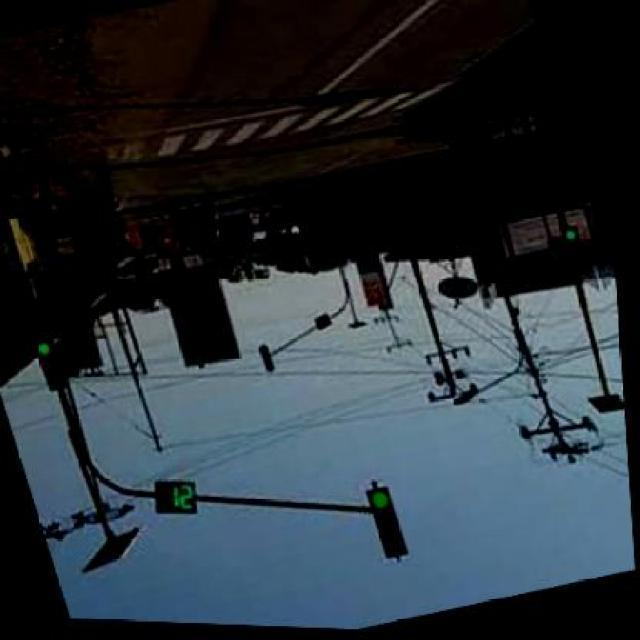green light: (362, 486, 415, 568), (38, 344, 74, 399)
